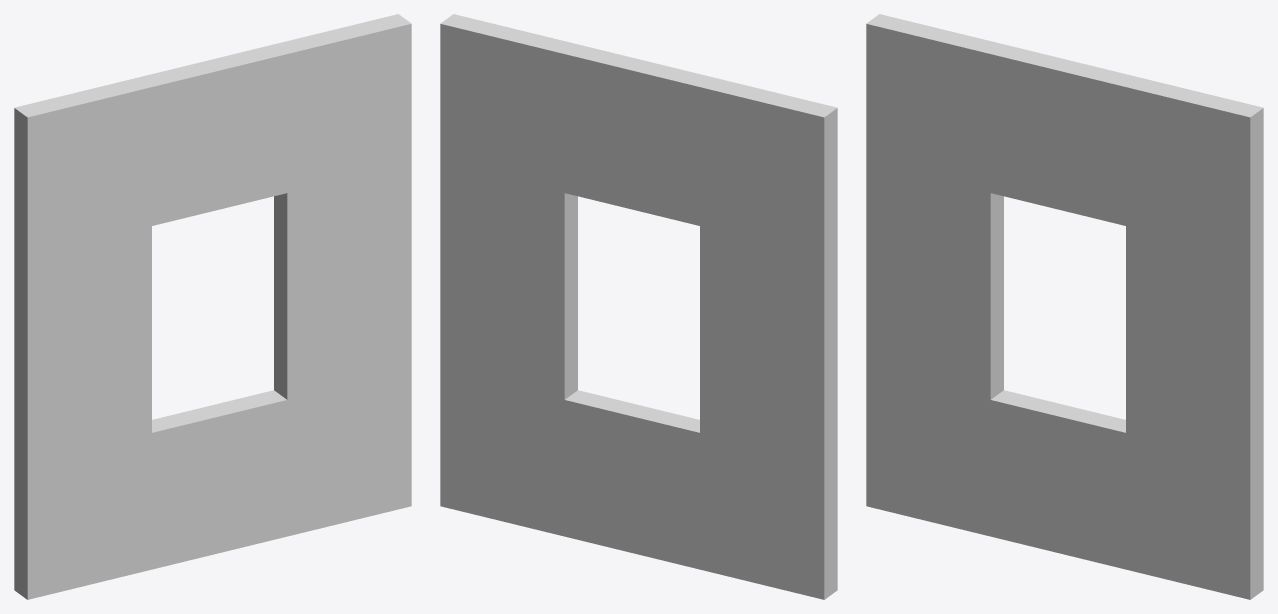
The model's file is Wall1_C1_03.fbx.
3 views of the same model, side by side, from view 1: azimuth 30°, elevation 25°; view 2: azimuth 150°, elevation 25°; view 3: azimuth 330°, elevation 25° (orthographic).
Parts seen in each view (by area): view 1: Wall1_C1_03; view 2: Wall1_C1_03; view 3: Wall1_C1_03.
Part boxes in pixels (x1,y1,x2,y2): Wall1_C1_03: (14, 14, 411, 599); Wall1_C1_03: (440, 14, 837, 599); Wall1_C1_03: (866, 14, 1263, 599).
Size of the model in its own units: 250 by 300 by 15.
